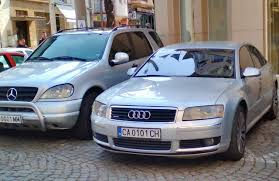registration_plate: (116, 125, 163, 140)
